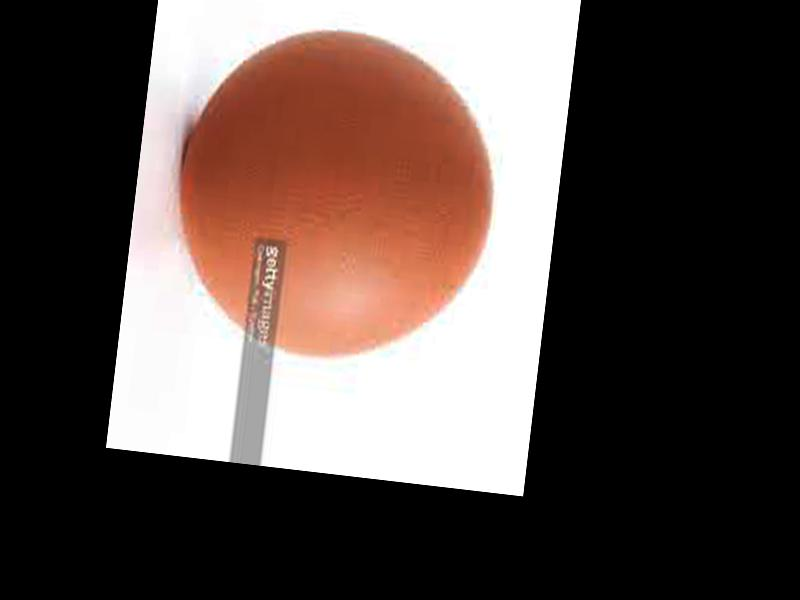Eggs: (168, 16, 510, 375)
